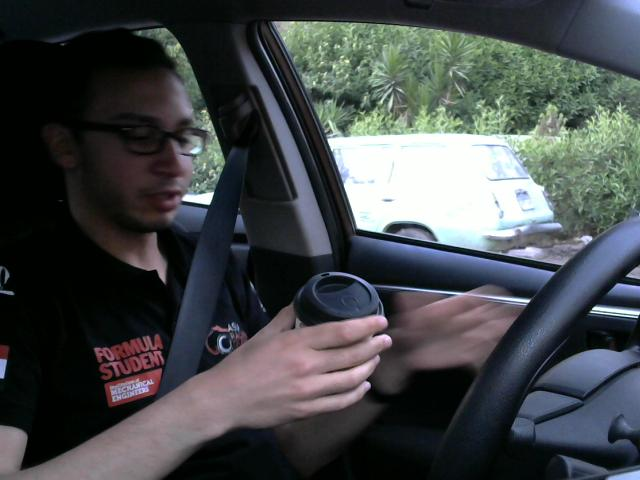Drinking: (285, 263, 395, 398)
